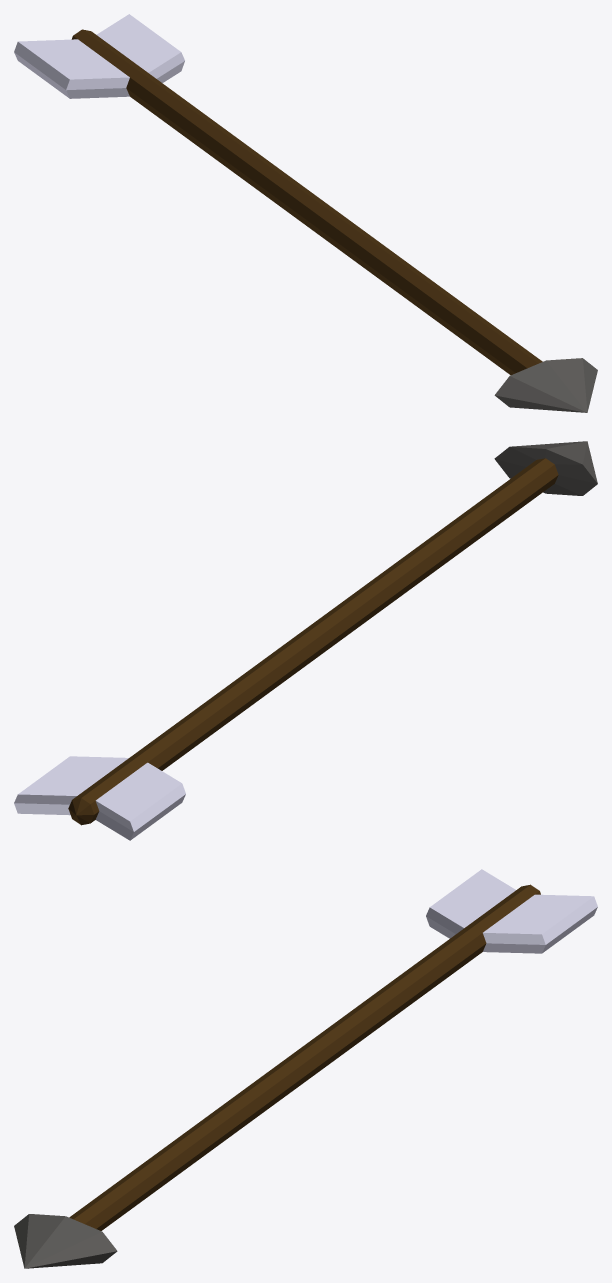
The model's file is SnowArrow.fbx.
3 renders of one model, top to bottom at view 1: azimuth 30°, elevation 25°; view 2: azimuth 150°, elevation 25°; view 3: azimuth 330°, elevation 25°, orthographic.
Parts seen in each view (by area): view 1: Cylinder; view 2: Cylinder; view 3: Cylinder.
Part boxes in pixels (left/top/right/bottom): Cylinder: left=14, top=14, right=597, bottom=412; Cylinder: left=14, top=441, right=597, bottom=840; Cylinder: left=14, top=869, right=597, bottom=1268.
Size of the model in its own units: 24.72 by 8.83 by 184.
